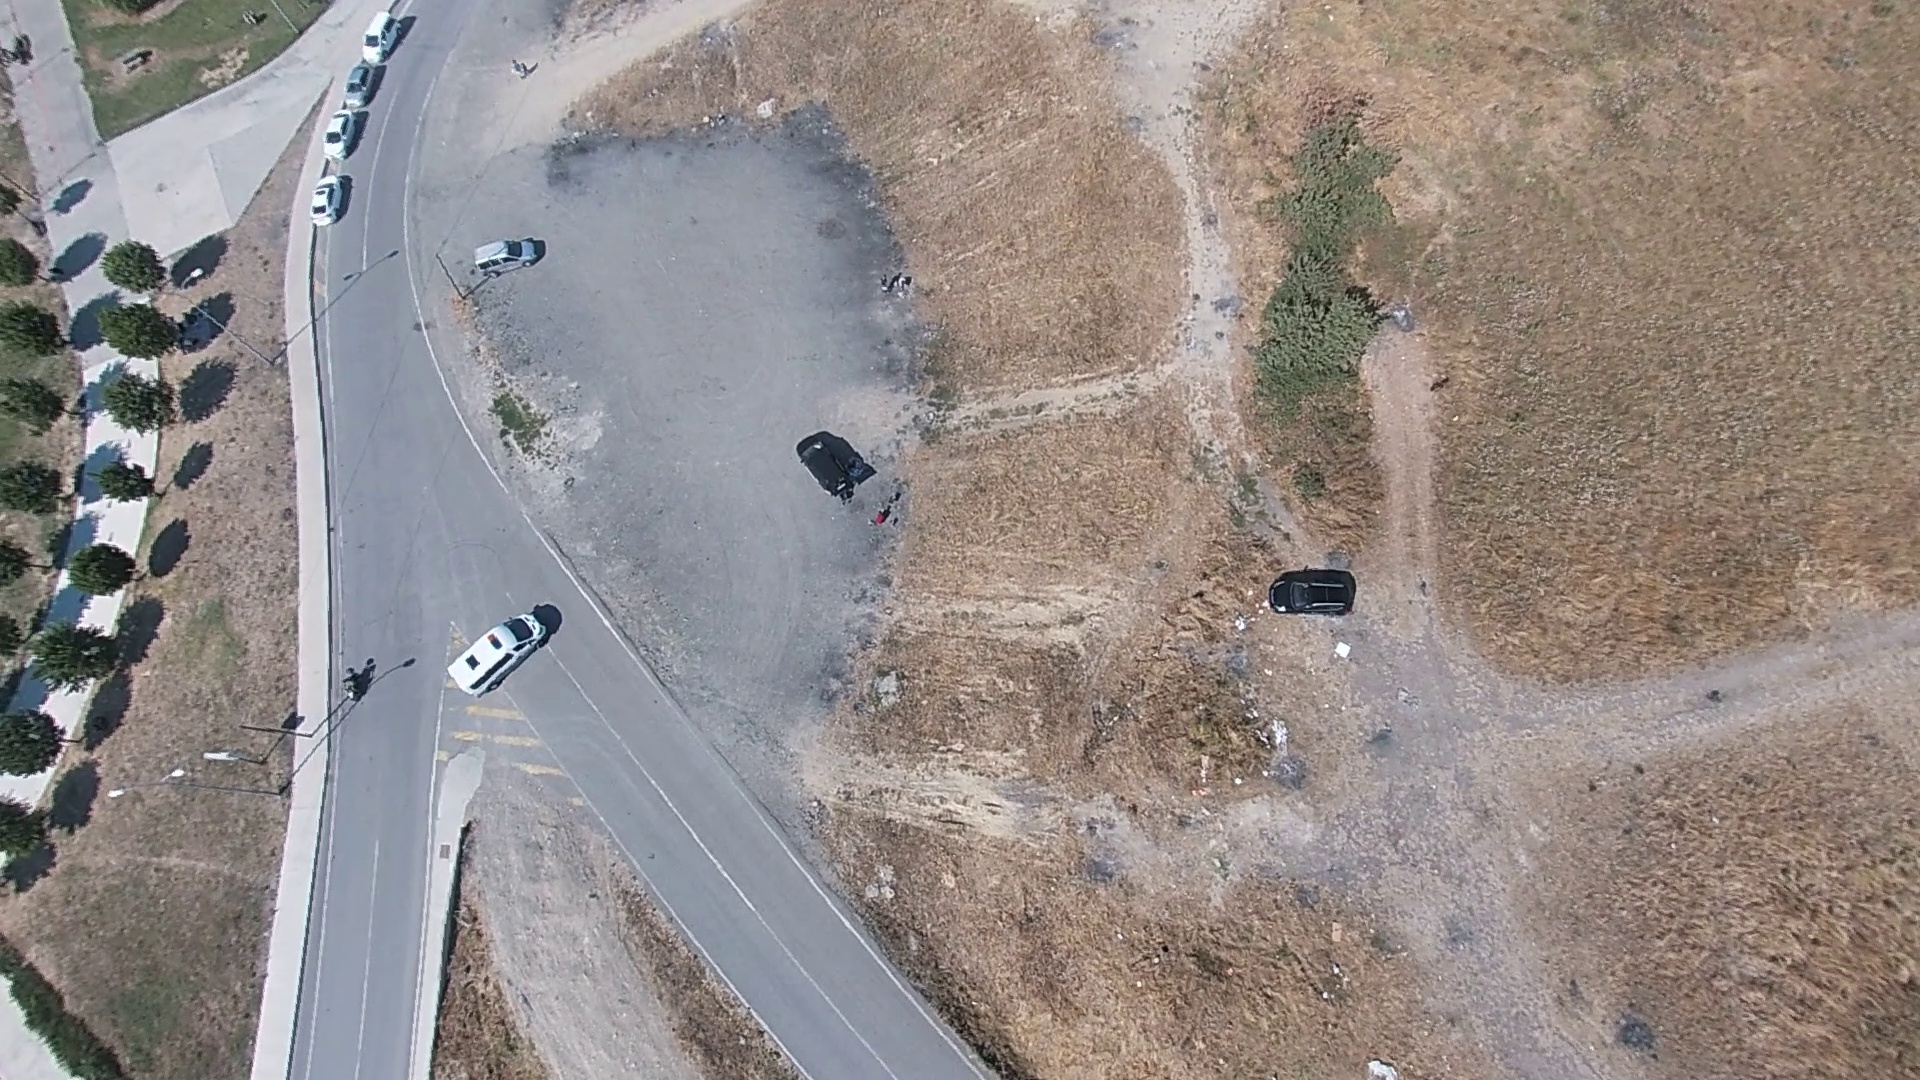araba: (443, 607, 552, 698), (796, 428, 875, 500), (1260, 566, 1356, 618), (473, 232, 542, 278), (304, 168, 346, 229), (358, 10, 401, 64), (319, 109, 360, 163), (341, 62, 377, 109)
insan: (508, 60, 524, 79), (877, 273, 890, 291), (873, 507, 885, 524)
